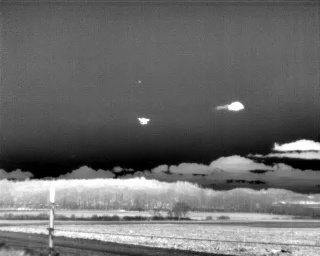DRONE: (134, 113, 154, 130)
